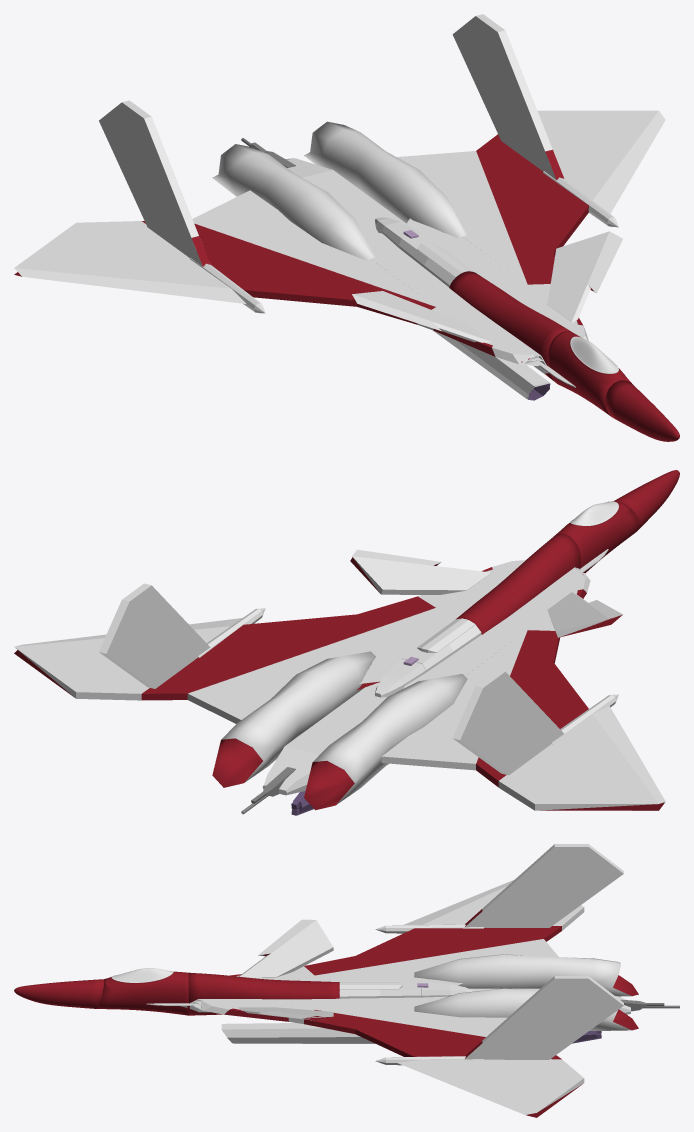
3 renders of one model, top to bottom at view 1: azimuth 30°, elevation 25°; view 2: azimuth 150°, elevation 25°; view 3: azimuth 270°, elevation 25°, orthographic. The views are drawn at different scales.
Parts seen in each view (by area): view 1: Wing, Wing.001, Foot, Cockpit, Multipurpose Container, Multipurpose Container.001, Gun, Body, Monitor; view 2: Wing, Foot, Wing.001, Cockpit, Multipurpose Container, Multipurpose Container.001, Body, Monitor; view 3: Wing, Wing.001, Foot, Cockpit, Gun, Multipurpose Container.001, Monitor, Multipurpose Container, Body.
Part boxes in pixels (x1,y1,x2,y2): Wing: [14, 14, 665, 356]; Wing.001: [142, 134, 588, 324]; Foot: [212, 121, 467, 260]; Cockpit: [449, 271, 679, 441]; Multipurpose Container: [241, 138, 406, 232]; Multipurpose Container.001: [375, 217, 476, 287]; Gun: [433, 330, 550, 400]; Body: [492, 322, 588, 366]; Monitor: [570, 336, 618, 373]; Wing: [14, 549, 665, 810]; Foot: [212, 651, 467, 810]; Wing.001: [141, 596, 588, 787]; Cockpit: [456, 470, 679, 634]; Multipurpose Container: [241, 682, 387, 814]; Multipurpose Container.001: [375, 618, 481, 697]; Body: [492, 560, 590, 592]; Monitor: [570, 501, 618, 526]; Wing: [224, 844, 623, 1117]; Wing.001: [304, 926, 561, 1059]; Foot: [414, 954, 638, 1030]; Cockpit: [14, 971, 339, 1015]; Gun: [221, 1023, 601, 1043]; Multipurpose Container.001: [339, 982, 473, 998]; Monitor: [111, 968, 173, 982]; Multipurpose Container: [469, 988, 679, 1014]; Body: [189, 999, 241, 1014].
Bounding box in the file's own units: 3286 × 849 × 3847.
